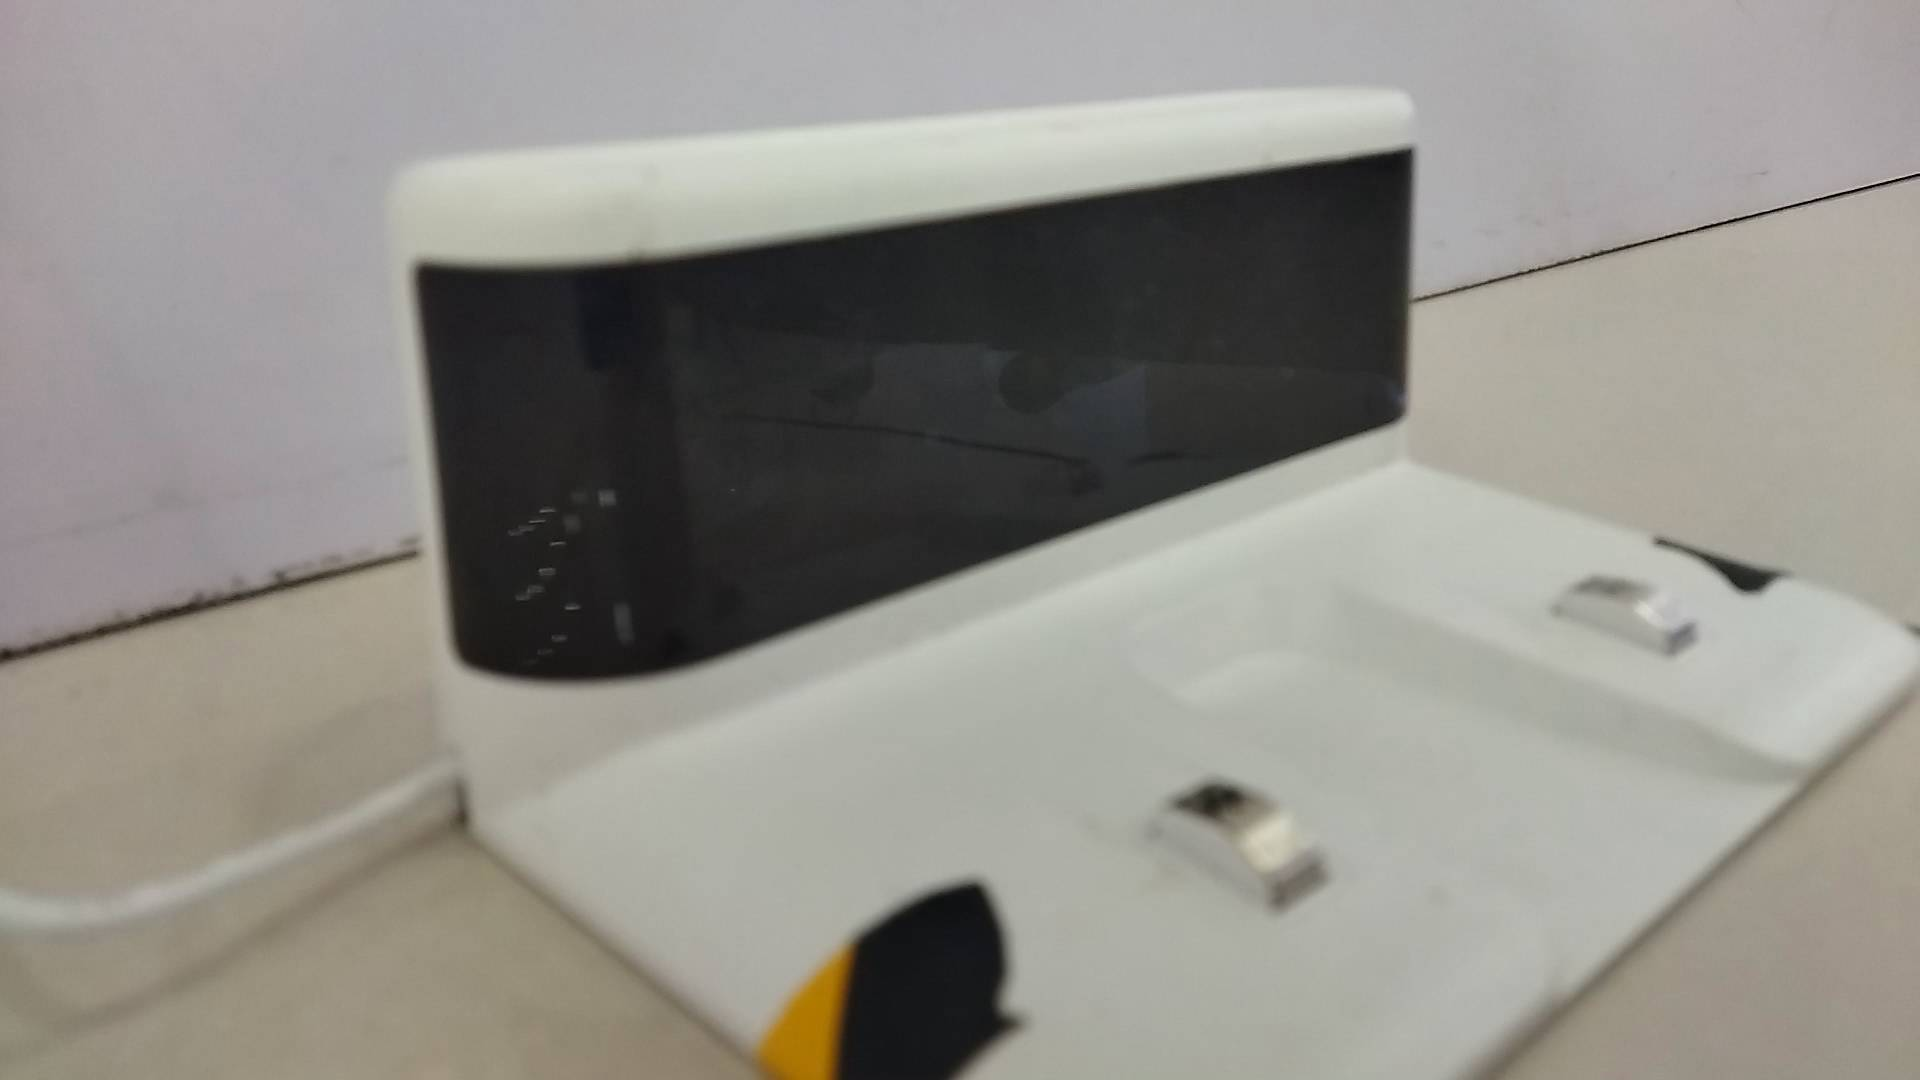recharge seat: (384, 83, 1920, 1080)
